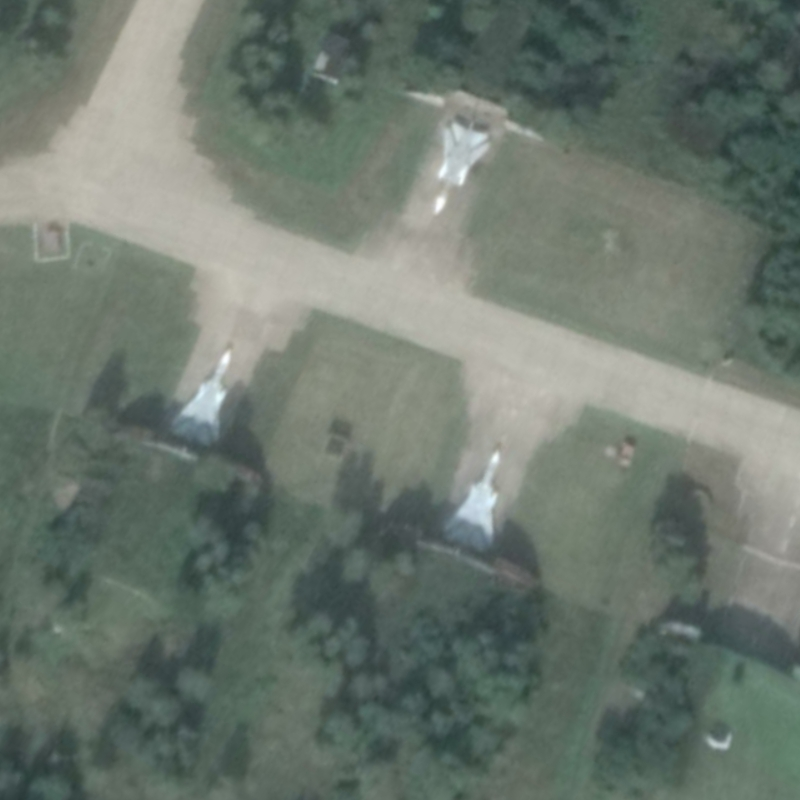A20: (169, 347, 234, 450), (442, 449, 502, 554), (431, 120, 492, 216)
